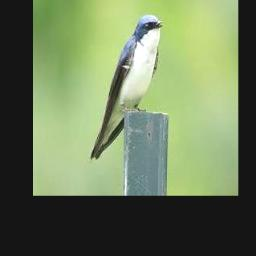Swallow: (90, 15, 165, 160)
